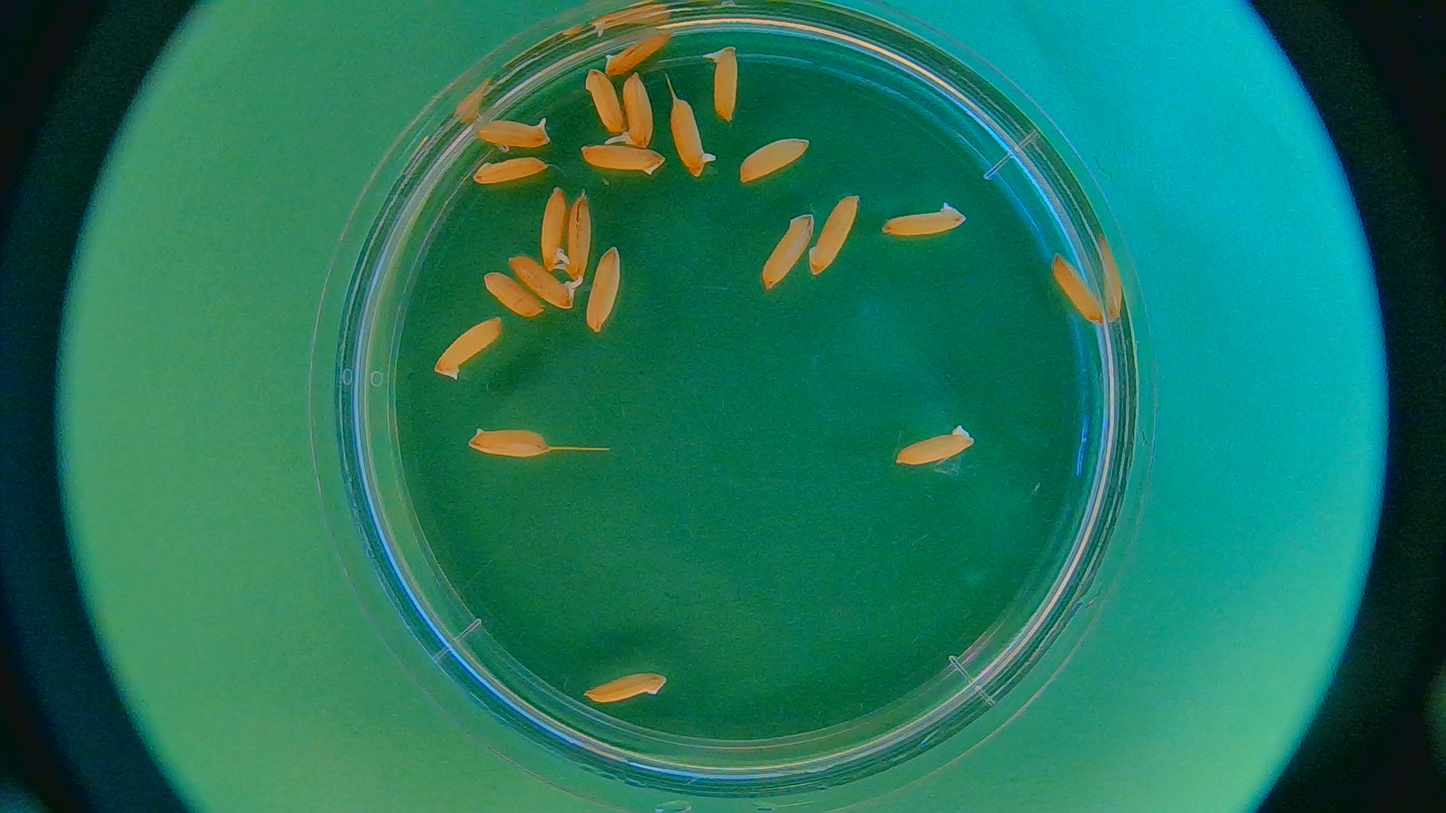no: (665, 79, 715, 181), (808, 195, 862, 277), (435, 315, 504, 379), (759, 213, 814, 288), (1050, 254, 1106, 327), (880, 195, 970, 239), (735, 137, 815, 185), (890, 424, 974, 468), (575, 669, 673, 705), (584, 244, 623, 333), (462, 426, 560, 461), (601, 29, 673, 76), (581, 67, 630, 134), (576, 143, 669, 175), (483, 271, 544, 316), (466, 157, 557, 186)
yes: (601, 71, 656, 151), (507, 254, 581, 312), (554, 189, 595, 286), (537, 182, 575, 276), (703, 43, 742, 123), (474, 114, 550, 150)
